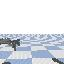drone: (0, 38, 20, 51)
